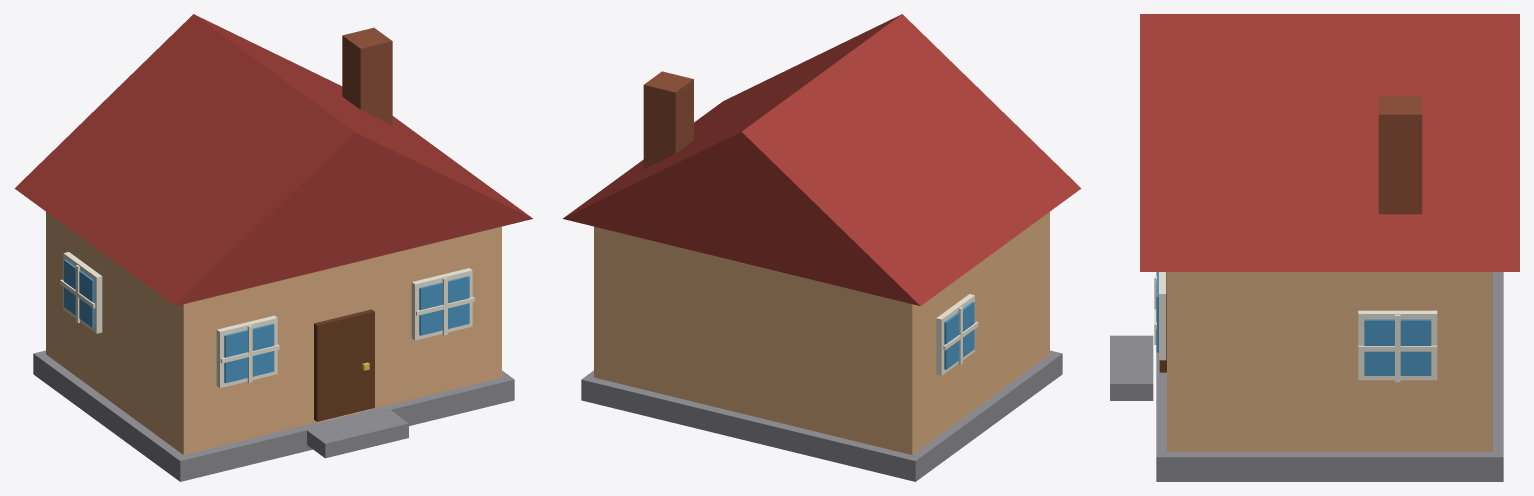
The model's file is house.glb.
3 views of the same model, side by side, from view 1: azimuth 30°, elevation 25°; view 2: azimuth 150°, elevation 25°; view 3: azimuth 270°, elevation 25° (orthographic). The views are drawn at different scales.
Parts seen in each view (by area): view 1: Gable Roof, House Walls, Foundation, Door, Chimney, Front Step, Front Window Left Glass, Front Window Right Glass, Front Window Left Frame, Front Window Right Frame, Left Side Window Glass, Left Side Window Frame; view 2: Gable Roof, House Walls, Foundation, Chimney, Left Side Window Glass, Left Side Window Frame; view 3: Gable Roof, House Walls, Foundation, Chimney, Right Side Window Glass, Front Step, Right Side Window Frame, Front Window Right Frame, Right Side Window Horizontal Bar.
Part boxes in pixels (x1=…): Gable Roof: x1=14, y1=14, x2=532, y2=305; House Walls: x1=46, y1=212, x2=501, y2=454; Foundation: x1=33, y1=350, x2=514, y2=481; Door: x1=314, y1=309, x2=374, y2=421; Chimney: x1=342, y1=27, x2=392, y2=125; Front Step: x1=307, y1=410, x2=408, y2=458; Front Window Left Glass: x1=224, y1=323, x2=274, y2=383; Front Window Right Glass: x1=419, y1=276, x2=469, y2=335; Front Window Left Frame: x1=216, y1=315, x2=277, y2=387; Front Window Right Frame: x1=411, y1=268, x2=472, y2=340; Left Side Window Glass: x1=64, y1=259, x2=94, y2=327; Left Side Window Frame: x1=63, y1=252, x2=102, y2=333; Gable Roof: x1=563, y1=14, x2=1081, y2=305; House Walls: x1=594, y1=212, x2=1049, y2=454; Foundation: x1=581, y1=350, x2=1062, y2=481; Chimney: x1=643, y1=71, x2=693, y2=168; Left Side Window Glass: x1=944, y1=301, x2=974, y2=369; Left Side Window Frame: x1=936, y1=294, x2=974, y2=375; Gable Roof: x1=1140, y1=14, x2=1519, y2=271; House Walls: x1=1167, y1=272, x2=1492, y2=451; Foundation: x1=1156, y1=272, x2=1503, y2=481; Chimney: x1=1378, y1=96, x2=1422, y2=214; Right Side Window Glass: x1=1364, y1=319, x2=1431, y2=375; Front Step: x1=1110, y1=335, x2=1153, y2=400; Right Side Window Frame: x1=1358, y1=310, x2=1437, y2=380; Front Window Right Frame: x1=1159, y1=272, x2=1166, y2=360; Right Side Window Horizontal Bar: x1=1358, y1=345, x2=1437, y2=351.
Bounding box in the file's own units: 9 × 7.55 × 7.55.
